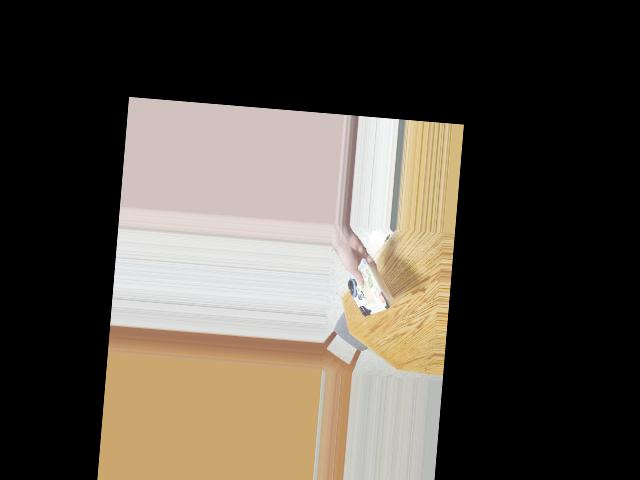cheese: (343, 261, 404, 323)
